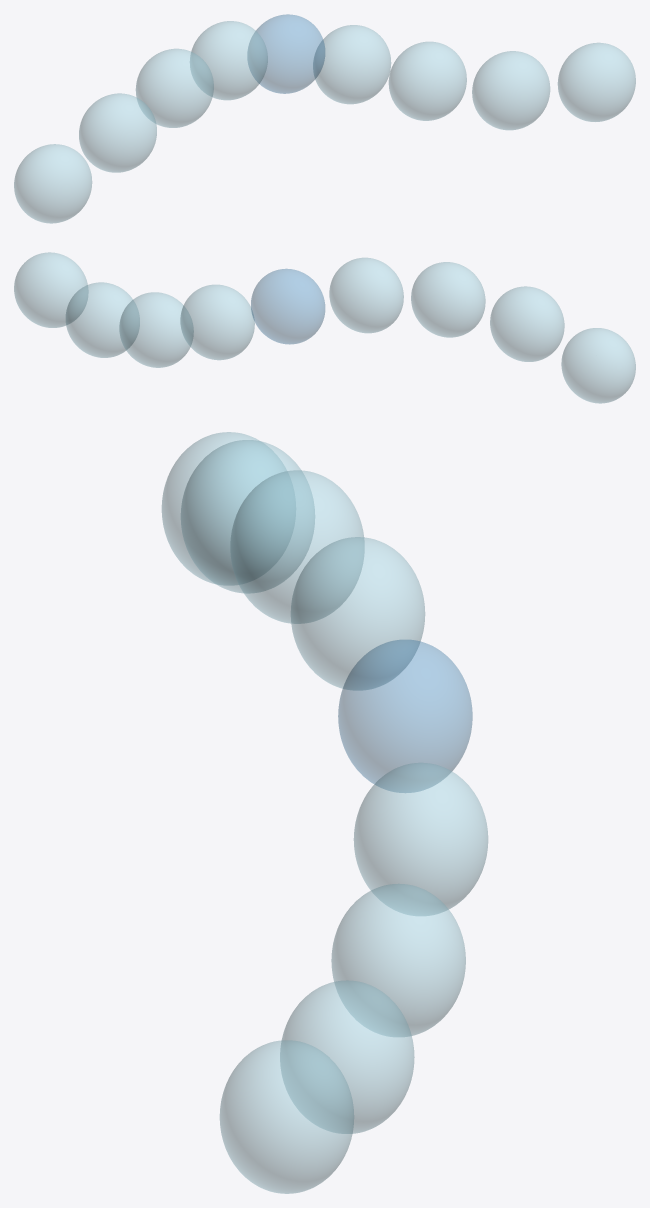
3 views of the same model, one above another, from view 1: azimuth 30°, elevation 25°; view 2: azimuth 150°, elevation 25°; view 3: azimuth 270°, elevation 25° (orthographic). The views are drawn at different scales.
Visible parts, largest first — view 1: path-bead-0, path-bead-7, path-bead-5, path-bead-6, path-bead-8, path-bead-1, path-bead-2, path-bead-3, path-bead-4; view 2: path-bead-2, path-bead-6, path-bead-3, path-bead-0, path-bead-4, path-bead-5, path-bead-1, path-bead-7, path-bead-8; view 3: path-bead-8, path-bead-2, path-bead-4, path-bead-5, path-bead-3, path-bead-6, path-bead-7, path-bead-1, path-bead-0.
Part boxes in pixels (left/top/right/bottom): path-bead-0: left=14, top=144, right=91, bottom=223; path-bead-7: left=472, top=51, right=549, bottom=129; path-bead-5: left=313, top=25, right=390, bottom=103; path-bead-6: left=389, top=42, right=466, bottom=120; path-bead-8: left=558, top=43, right=635, bottom=121; path-bead-1: left=79, top=93, right=156, bottom=172; path-bead-2: left=136, top=49, right=213, bottom=127; path-bead-3: left=190, top=21, right=267, bottom=99; path-bead-4: left=247, top=14, right=324, bottom=93; path-bead-2: left=411, top=262, right=485, bottom=337; path-bead-6: left=119, top=292, right=193, bottom=367; path-bead-3: left=329, top=258, right=403, bottom=332; path-bead-0: left=561, top=328, right=635, bottom=403; path-bead-4: left=251, top=269, right=324, bottom=344; path-bead-5: left=180, top=285, right=254, bottom=359; path-bead-1: left=490, top=286, right=564, bottom=361; path-bead-7: left=66, top=282, right=139, bottom=357; path-bead-8: left=14, top=252, right=88, bottom=327; path-bead-8: left=220, top=1040, right=353, bottom=1193; path-bead-2: left=230, top=470, right=364, bottom=623; path-bead-4: left=338, top=640, right=472, bottom=792; path-bead-5: left=354, top=763, right=487, bottom=915; path-bead-3: left=291, top=537, right=424, bottom=690; path-bead-6: left=331, top=884, right=465, bottom=1036; path-bead-7: left=280, top=980, right=414, bottom=1133; path-bead-1: left=181, top=440, right=314, bottom=593; path-bead-0: left=162, top=432, right=286, bottom=585.
Bounding box in the file's own units: 2.88 × 0.7448 × 0.6797.
